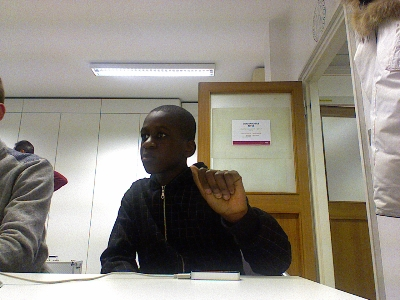石头: (188, 164, 249, 219)
